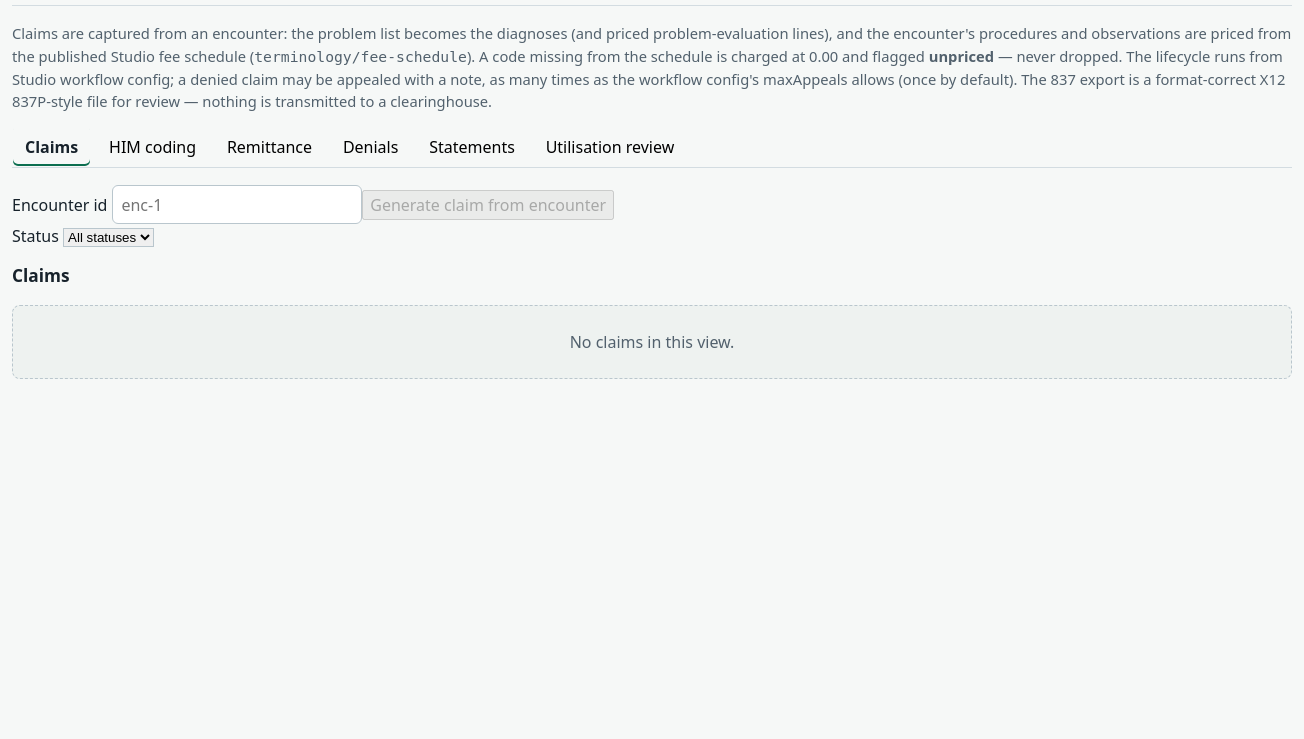
Test case: URPanel (BD-21) › mounts as the Utilisation review tab in BillingPage
Expected: the text "No claims in this view." is shown, [570,330,734,354]
Step 1. Click the tab "Utilisation review" → (610, 147), box [533,126,687,167]
(page scrolled)
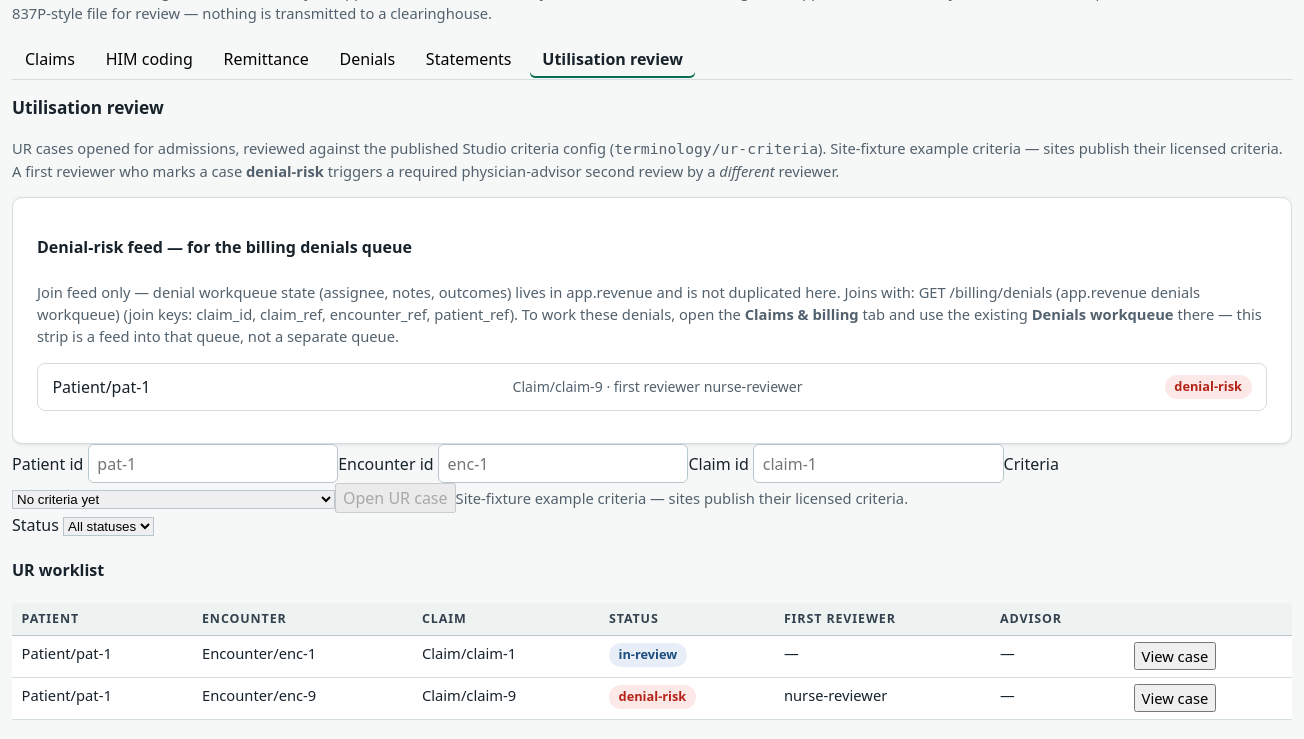
Expected: the heading "UR worklist" is shown, [12,559,104,581]
Expected: the text "Encounter/enc-1" is shown, [192,636,412,677]
